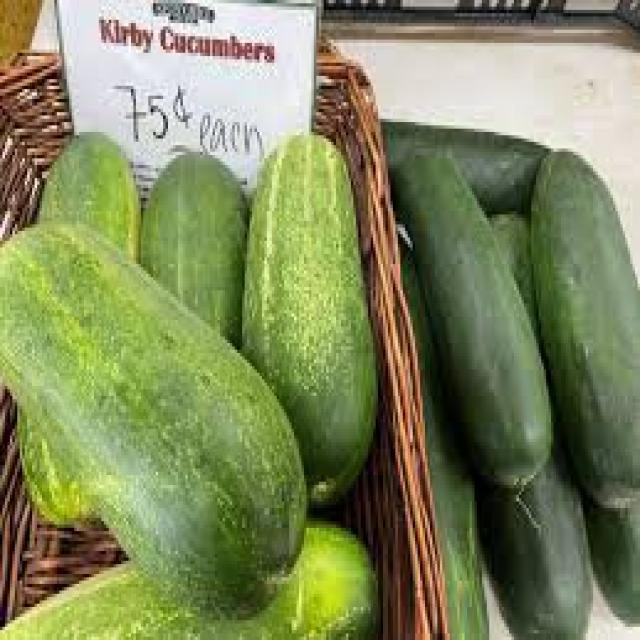cucumber: (3, 218, 306, 628), (367, 117, 553, 490), (239, 130, 377, 511), (528, 144, 639, 502), (143, 153, 247, 357)
